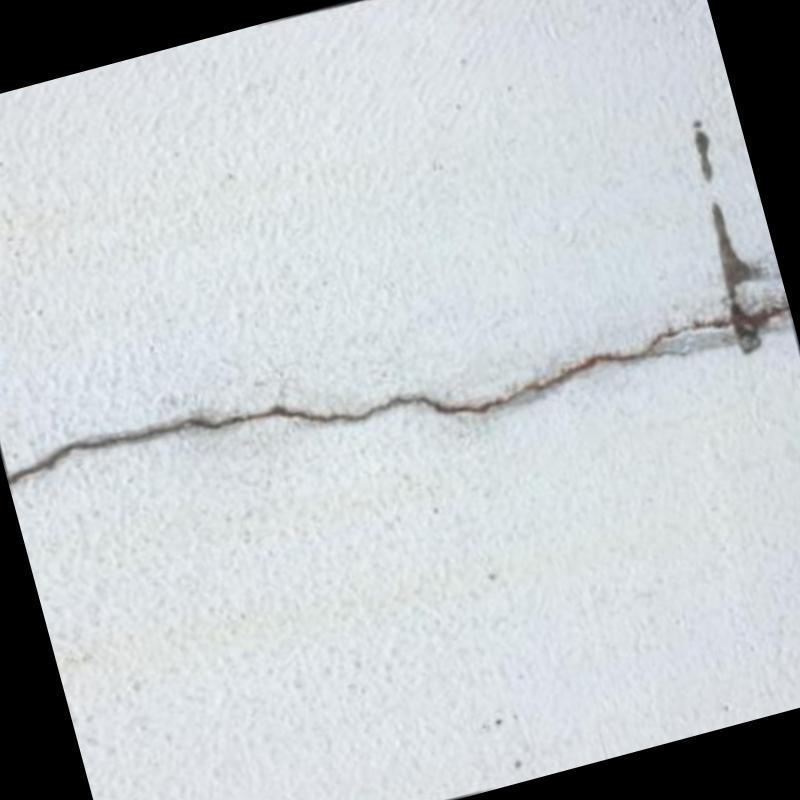pothole: (9, 318, 723, 483)
